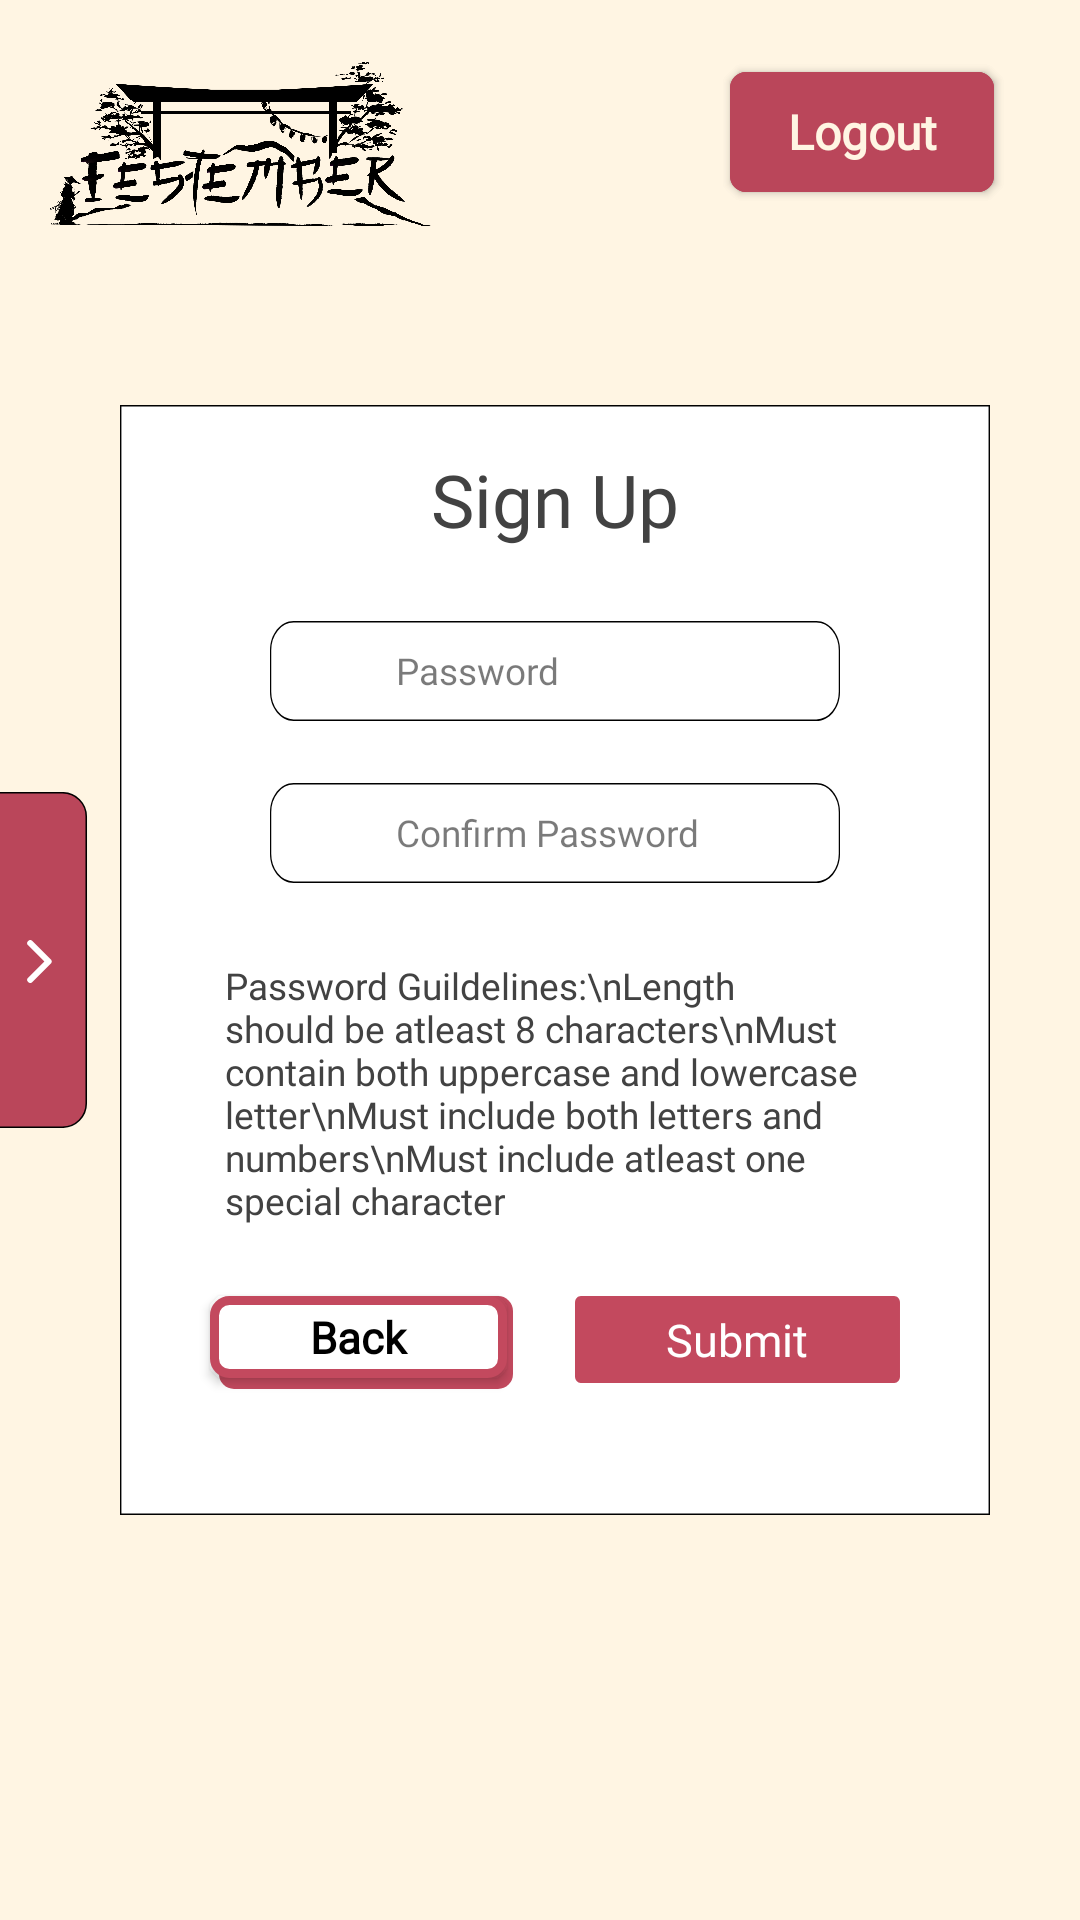

Icon bounding boxes for this 1080×1920 phone screenshot, format (x1, y1, x2, y2):
navicon: (0, 792, 87, 1128)
